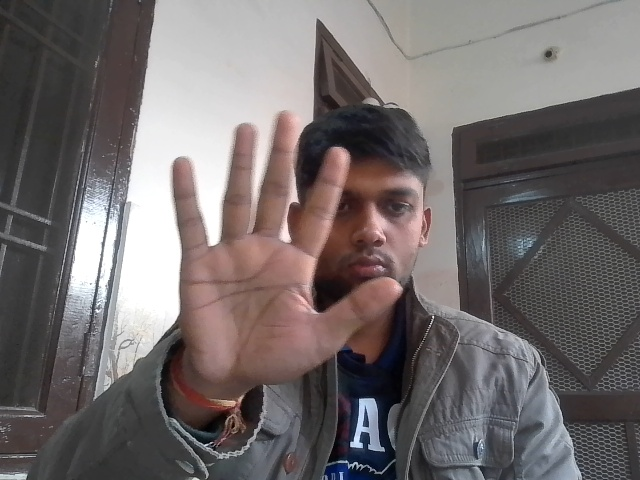Hello: (160, 104, 403, 394)
